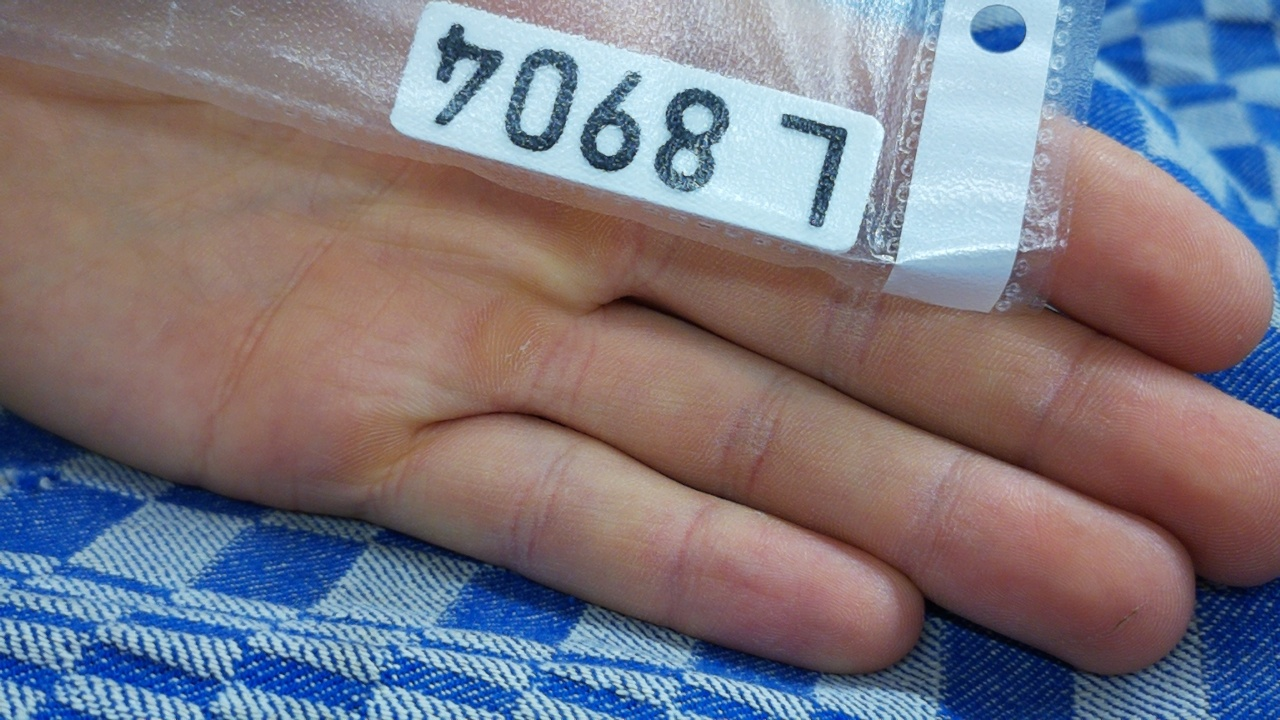license_plate: (386, 0, 890, 261)
